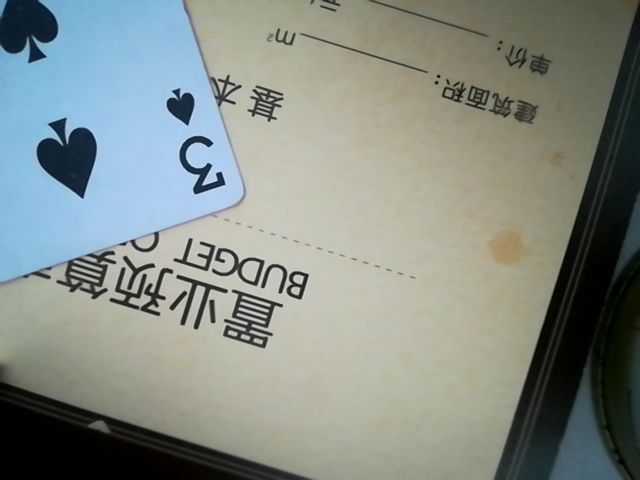ht 3: (0, 0, 243, 300)
